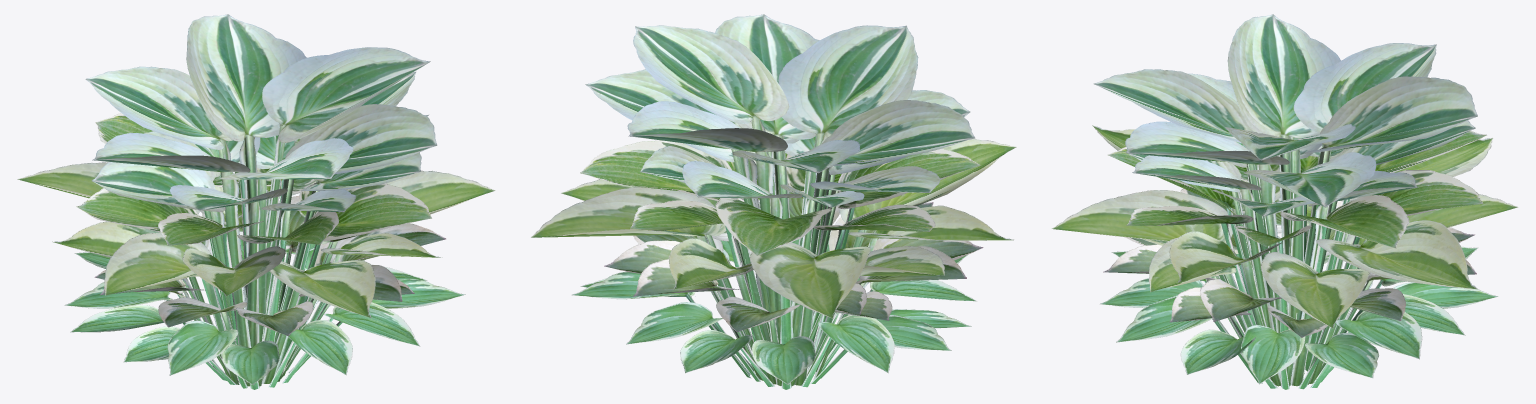
The model's file is plant_small_wg_00_2.fbx.
The picture shows the model from 3 angles, left to right: view 1: azimuth 30°, elevation 25°; view 2: azimuth 150°, elevation 25°; view 3: azimuth 270°, elevation 25°; orthographic projection. The views are drawn at different scales.
Parts seen in each view (by area): view 1: plant_small_wg_00_2; view 2: plant_small_wg_00_2; view 3: plant_small_wg_00_2.
Part boxes in pixels (x1,y1,x2,y2): plant_small_wg_00_2: (17, 14, 495, 389); plant_small_wg_00_2: (531, 14, 1016, 389); plant_small_wg_00_2: (1051, 14, 1518, 389).
Size of the model in its own units: 81.2 by 58.18 by 82.78.
Materials: 1 (1 with a texture image).
